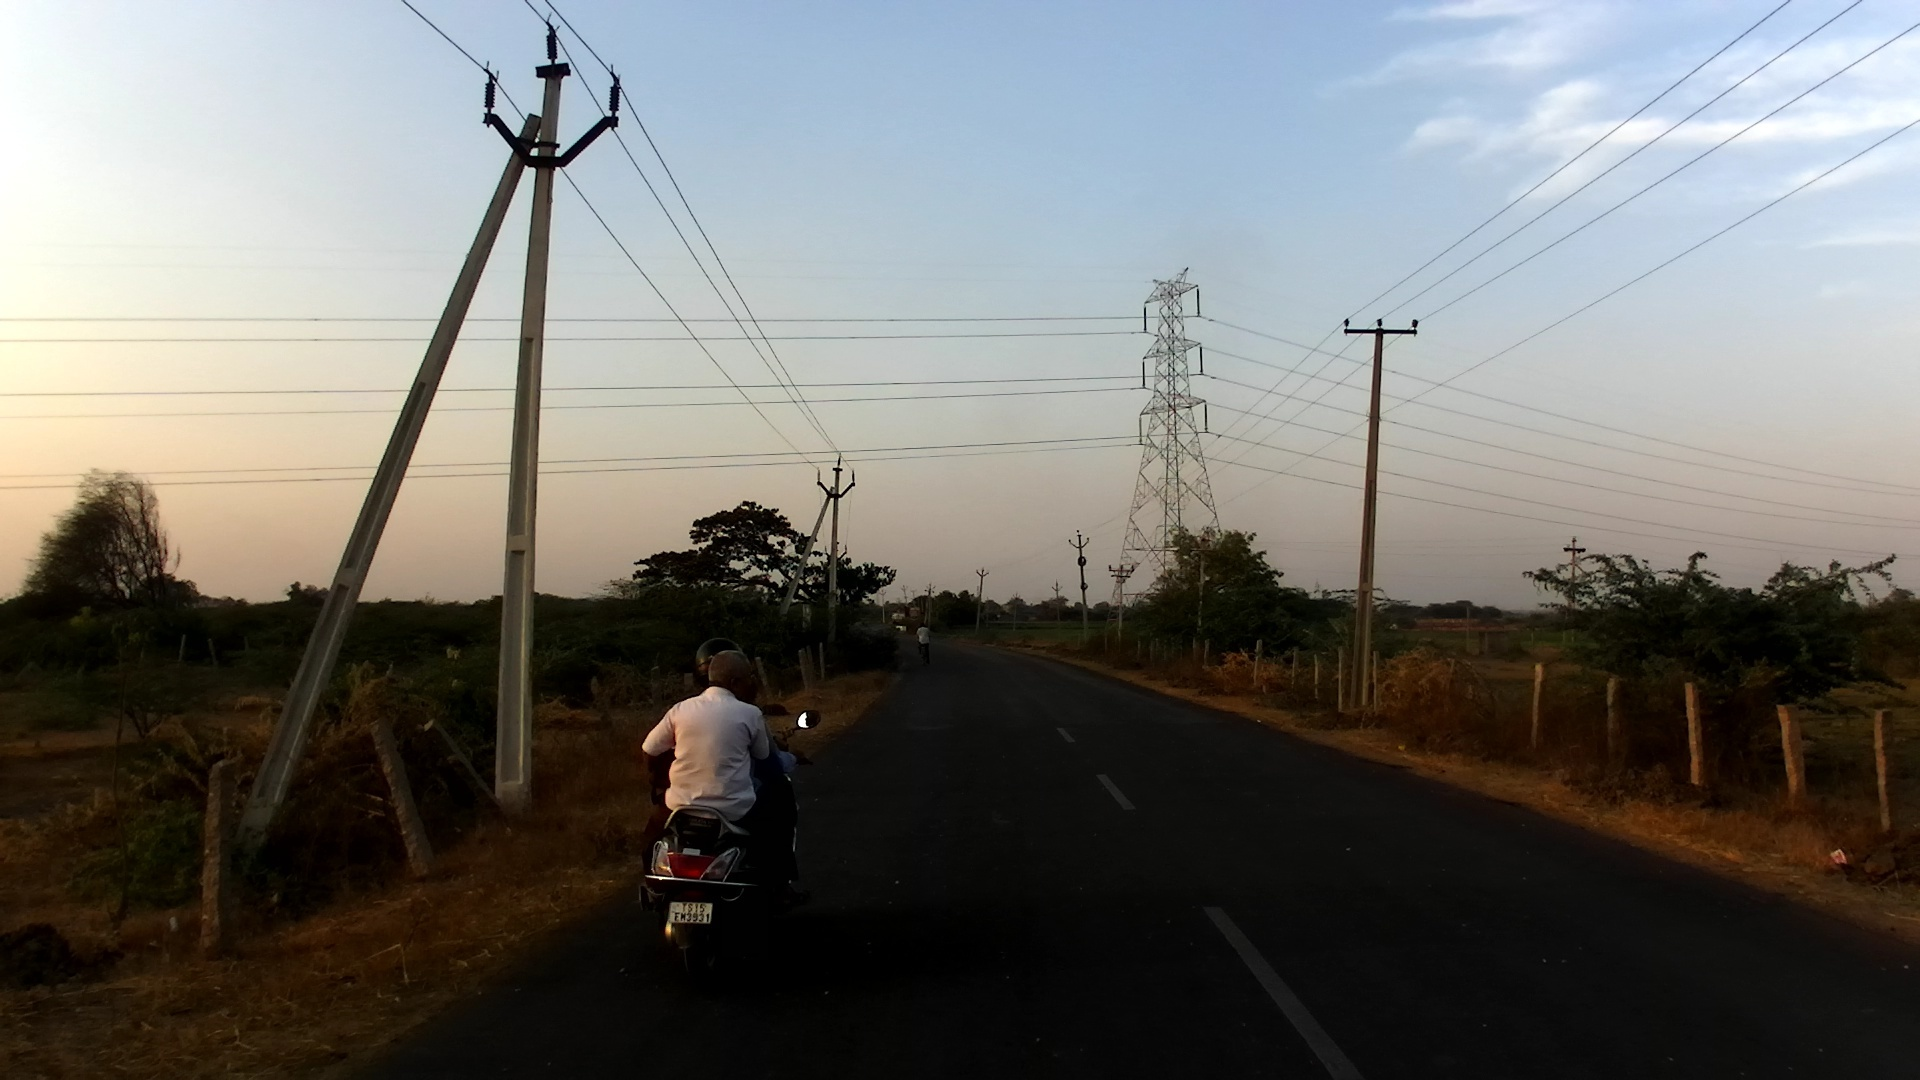bicycle: (915, 632, 934, 668)
motorcycle: (636, 702, 820, 982)
rider: (638, 649, 797, 906), (687, 639, 807, 856), (910, 621, 938, 662)
vehicle fallback: (890, 611, 907, 625)
